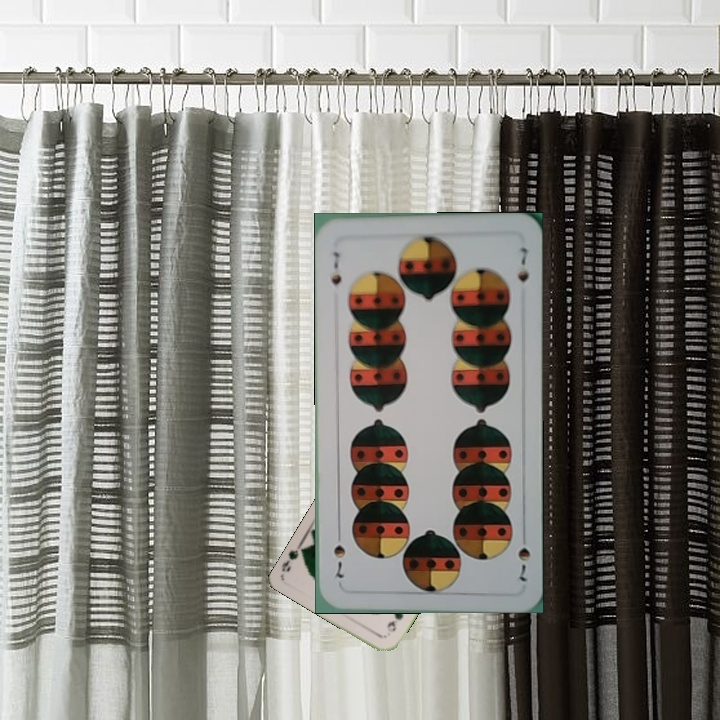G9: (383, 607, 406, 635)
S7: (514, 527, 533, 584), (327, 248, 344, 288)
